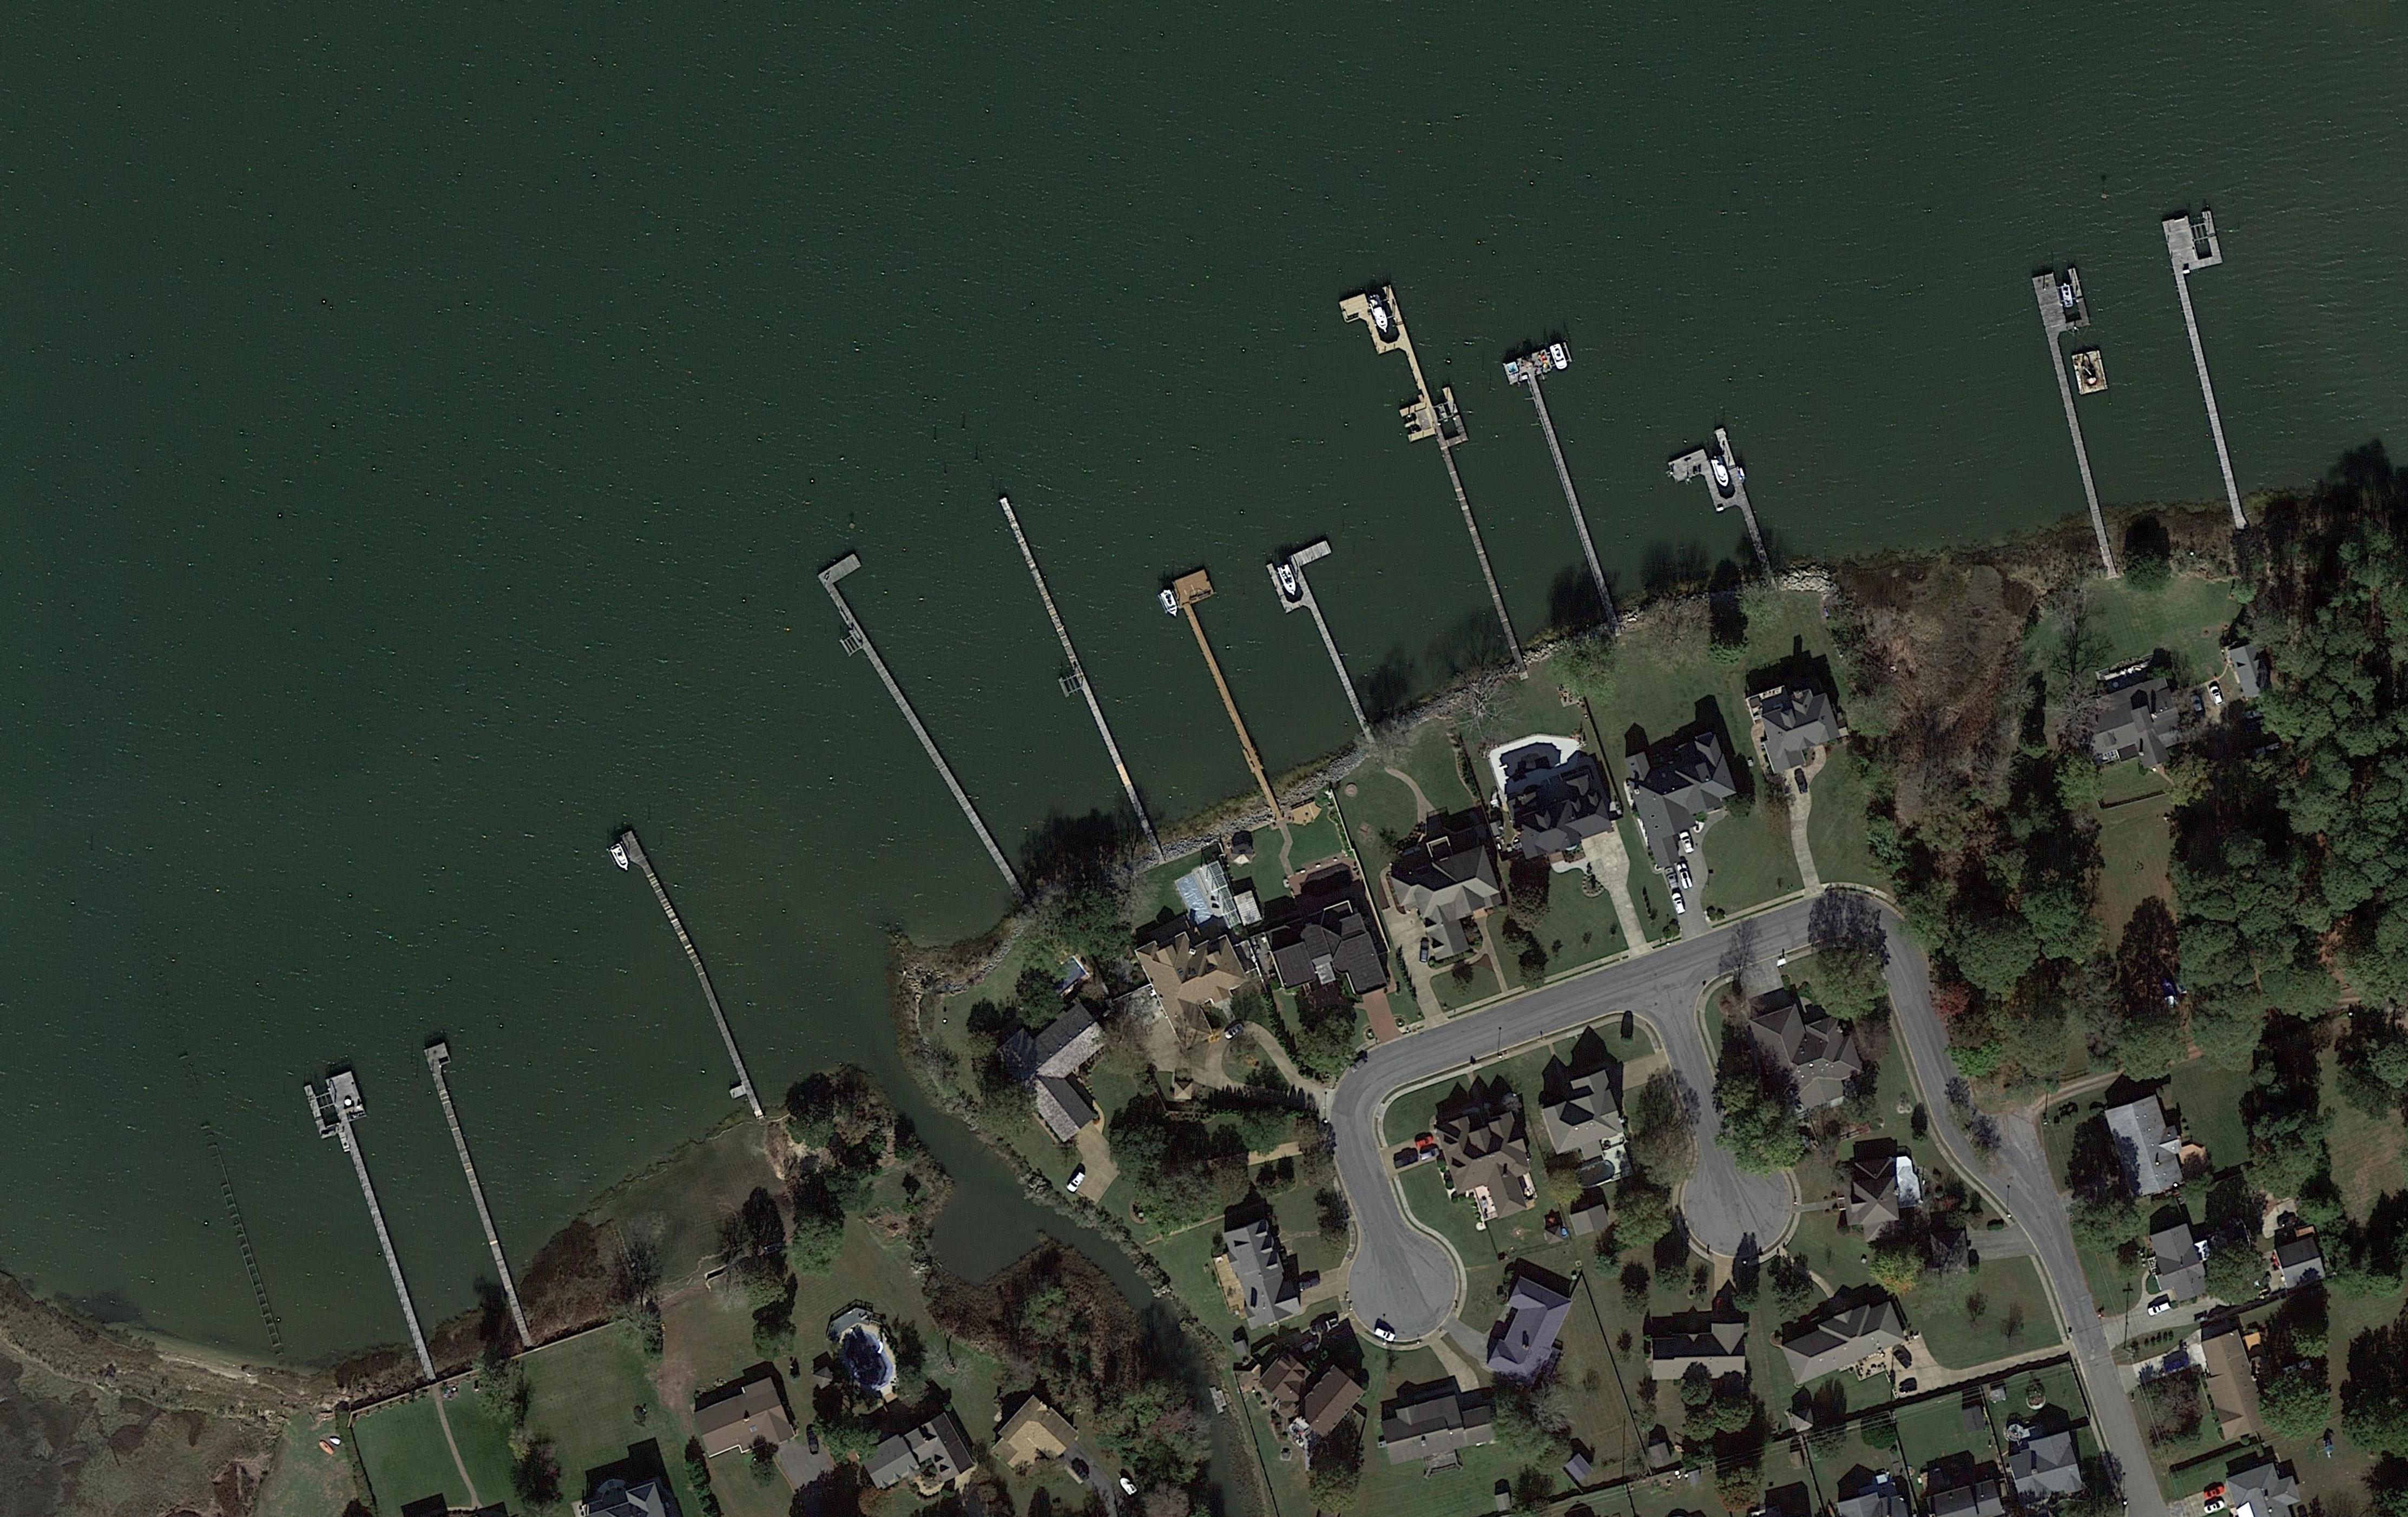harbor: (1340, 285, 1517, 655), (818, 554, 1029, 862), (986, 496, 1138, 807), (1503, 341, 1648, 605), (302, 1070, 433, 1340), (2160, 210, 2279, 495), (2031, 266, 2137, 512), (1267, 542, 1394, 736), (1171, 570, 1286, 772), (423, 1043, 522, 1278), (1660, 428, 1767, 580), (619, 830, 702, 972)
ship: (1367, 292, 1394, 336), (1276, 563, 1302, 598), (1707, 454, 1733, 489), (1157, 587, 1183, 620), (608, 841, 634, 874), (1547, 343, 1571, 371), (1118, 1473, 1139, 1498), (2059, 281, 2076, 309), (316, 1438, 336, 1456), (329, 1437, 341, 1445)
